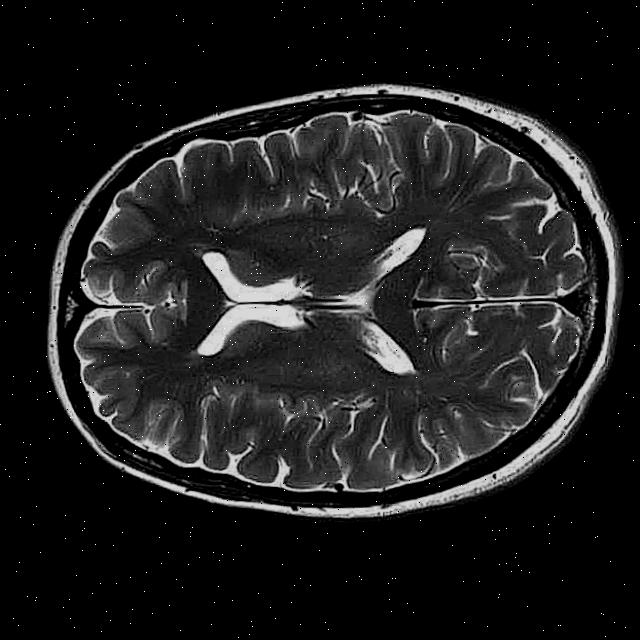NoTumor: (39, 50, 633, 557)
